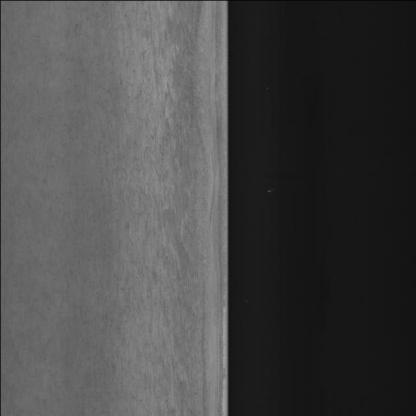silk_spot: (116, 21, 196, 388)
